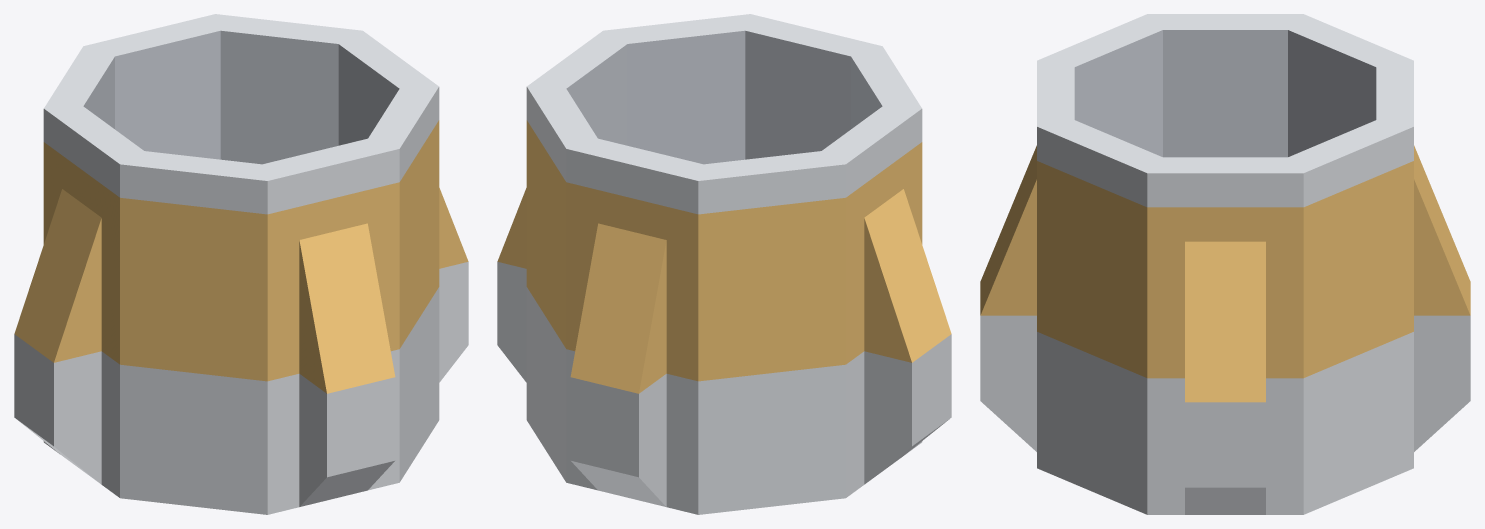
Rendered from rocket_sidesB.glb.
The picture shows the model from 3 angles, left to right: view 1: azimuth 30°, elevation 25°; view 2: azimuth 150°, elevation 25°; view 3: azimuth 270°, elevation 25°; orthographic projection. The views are drawn at different scales.
Visible parts, largest first — view 1: rocket_sidesB; view 2: rocket_sidesB; view 3: rocket_sidesB.
Part boxes in pixels (<box>): rocket_sidesB: <box>14,14,468,514</box>; rocket_sidesB: <box>497,14,951,514</box>; rocket_sidesB: <box>980,14,1470,514</box>.
Bounding box in the file's own units: 1.3 × 1 × 1.3.
